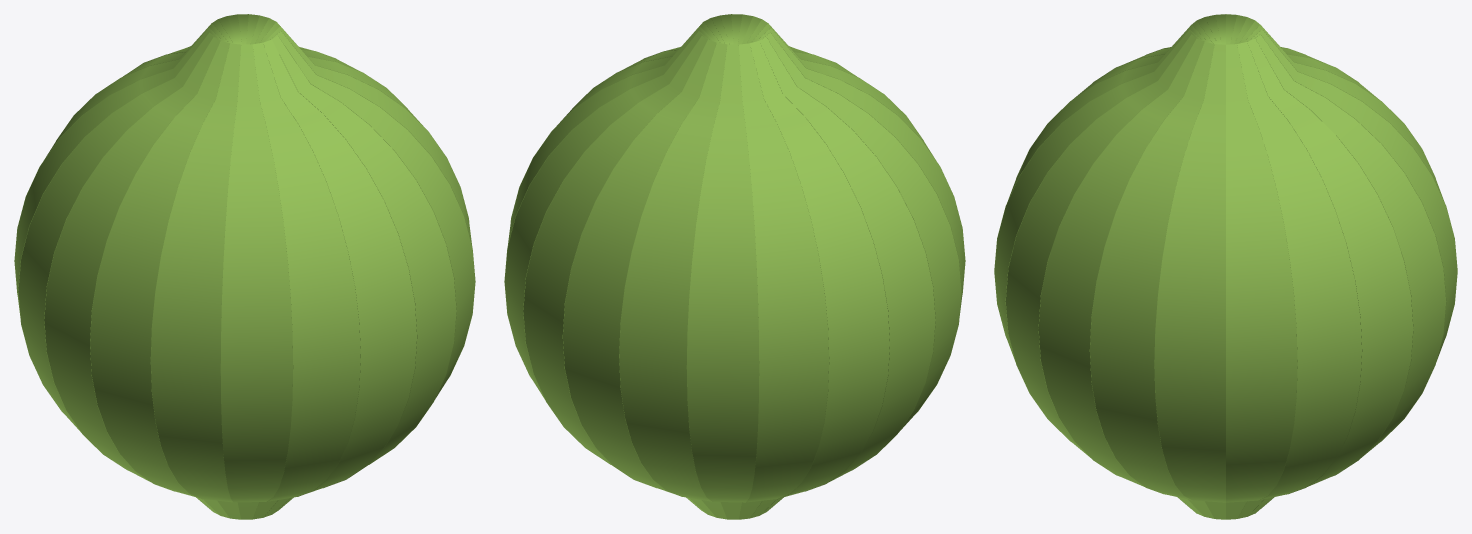
File: LimeWholeFBX.fbx
The picture shows the model from 3 angles, left to right: view 1: azimuth 30°, elevation 25°; view 2: azimuth 150°, elevation 25°; view 3: azimuth 270°, elevation 25°; orthographic projection.
Parts seen in each view (by area): view 1: pSphere96; view 2: pSphere96; view 3: pSphere96.
Boxes of the visible parts, left/top/right/bottom form: pSphere96: left=14, top=14, right=475, bottom=519; pSphere96: left=504, top=14, right=965, bottom=519; pSphere96: left=994, top=14, right=1457, bottom=519.
Bounding box in the file's own units: 2 × 2.27 × 2.
